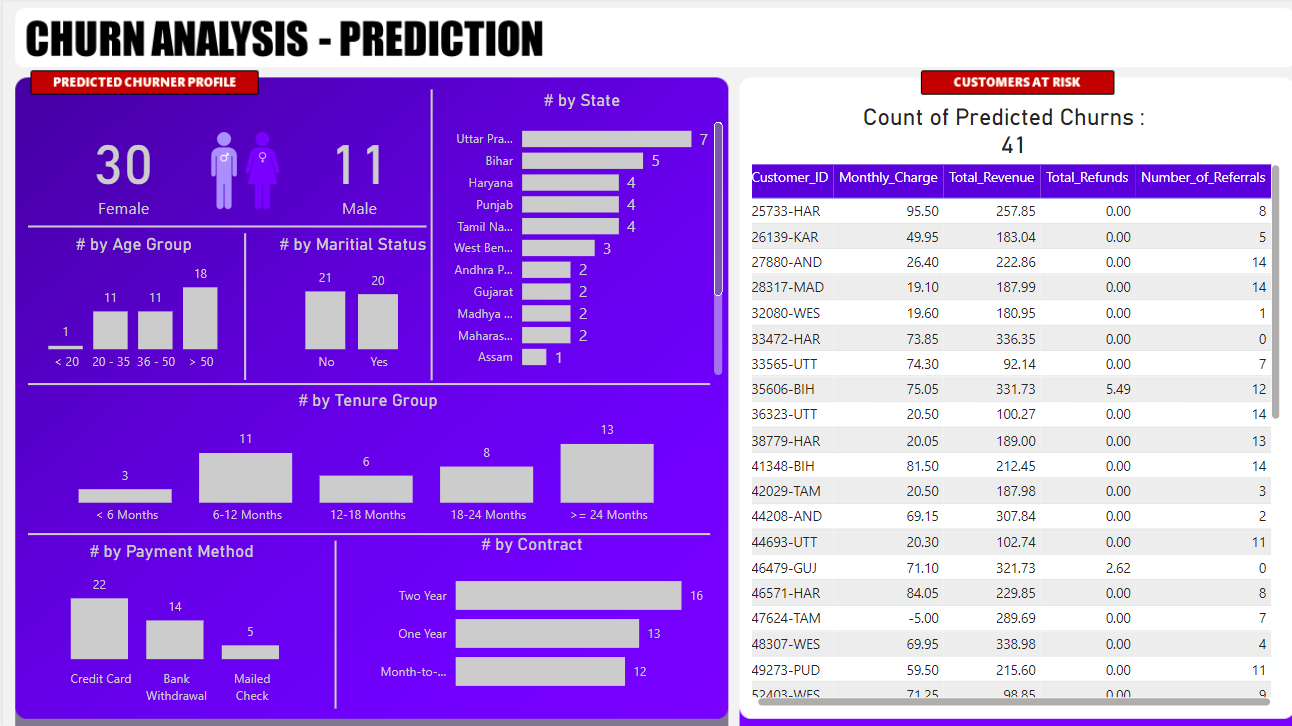

The dashboard page shown, as its layout file describes it:
{"tool":"powerbi","page":{"name":"Churn Prediction","canvas":[1280,720],"ordinal":2},"visuals":[{"type":"tableEx","fields":{"Values":["Predictions.Customer_ID","Predictions.Monthly_Charge","Predictions.Total_Revenue","Predictions.Total_Refunds","Predictions.Number_of_Referrals"]},"box":[728.6,159.2,529.7,542],"z":0},{"type":"card","title":"Count of Predicted Churns :","fields":{"Values":["Key Measures.Count of Predicted Churner"]},"box":[839.8,104.3,306,54.9],"z":1000},{"type":"card","title":"Female","fields":{"Values":["Key Measures.Count of Predicted Churner"]},"box":[24.7,104.3,188,127.6],"z":2000},{"type":"card","title":"Female","fields":{"Values":["Key Measures.Count of Predicted Churner"]},"box":[260.7,104.3,179.8,127.6],"z":3000},{"type":"clusteredColumnChart","title":"# by Age Group","fields":{"Category":["mapping_Agegrp.Age Group"],"Y":["CountNonNull(Predictions.Customer_ID)"]},"box":[22,231.9,212.7,144.1],"z":4000},{"type":"clusteredColumnChart","title":"# by Payment Method","fields":{"Category":["Predictions.Payment_Method"],"Y":["CountNonNull(Predictions.Customer_ID)"]},"box":[22,533.8,286.8,167.4],"z":5000},{"type":"clusteredColumnChart","title":"# by Maritial Status","fields":{"Y":["CountNonNull(Predictions.Customer_ID)"],"Category":["Predictions.Married"]},"box":[245.6,231.9,196.2,144.1],"z":6000},{"type":"clusteredColumnChart","title":"# by Tenure Group","fields":{"Y":["CountNonNull(Predictions.Customer_ID)"],"Category":["mapping_TenureGrp.Tenure Group"]},"box":[22,385.6,672.4,141.3],"z":7000},{"type":"barChart","title":"# by Contract","fields":{"Category":["prod_Churn.Contract"],"Y":["CountNonNull(Predictions.Customer_ID)"]},"box":[343.1,526.9,351.3,171.5],"z":8000},{"type":"barChart","title":"# by State","fields":{"Y":["CountNonNull(Predictions.Customer_ID)"],"Category":["Predictions.State"]},"box":[425.4,90.6,285.4,285.4],"z":9000},{"type":"shape","box":[415.8,90.6,9.6,285.4],"z":10000},{"type":"shape","box":[319.7,533.8,12.3,164.7],"z":11000},{"type":"shape","box":[229.2,231.9,16.5,144.1],"z":12000},{"type":"shape","box":[24.7,360.9,669.6,38.4],"z":13000},{"type":"shape","box":[24.7,218.2,391.1,13.7],"z":14000},{"type":"shape","box":[24.7,507.7,669.6,38.4],"z":15000},{"type":"image","box":[182.5,115.3,109.8,107],"z":16000}]}

Visuals, with their boxes in screenshot pixels (x1, y1, x2, y2), scaled from the page's 1280x720 canvas onto the 1292x726 screenshot:
tableEx - Predictions.Customer_ID x Predictions.Monthly_Charge: left=735, top=161, right=1270, bottom=707
"Count of Predicted Churns :" card: left=848, top=105, right=1157, bottom=161
"Female" card: left=25, top=105, right=215, bottom=234
"Female" card: left=263, top=105, right=445, bottom=234
"# by Age Group" clusteredColumnChart: left=22, top=234, right=237, bottom=379
"# by Payment Method" clusteredColumnChart: left=22, top=538, right=312, bottom=707
"# by Maritial Status" clusteredColumnChart: left=248, top=234, right=446, bottom=379
"# by Tenure Group" clusteredColumnChart: left=22, top=389, right=701, bottom=531
"# by Contract" barChart: left=346, top=531, right=701, bottom=704
"# by State" barChart: left=429, top=91, right=717, bottom=379
shape: left=420, top=91, right=429, bottom=379
shape: left=323, top=538, right=335, bottom=704
shape: left=231, top=234, right=248, bottom=379
shape: left=25, top=364, right=701, bottom=403
shape: left=25, top=220, right=420, bottom=234
shape: left=25, top=512, right=701, bottom=551
image: left=184, top=116, right=295, bottom=224
